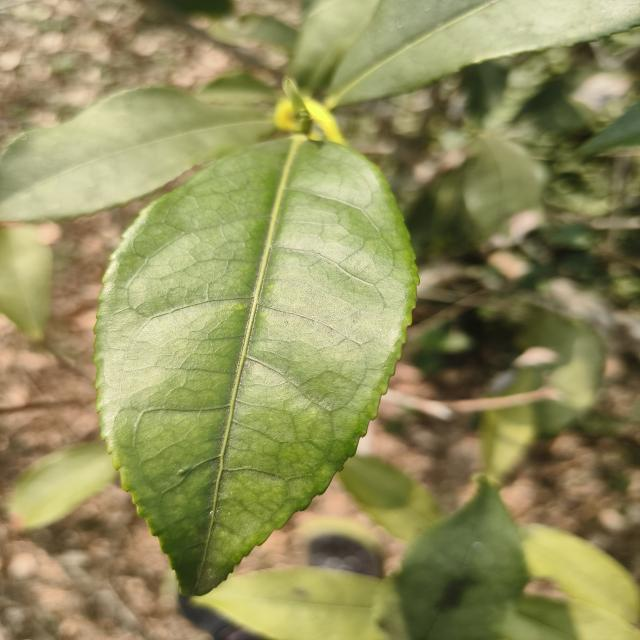Leaf: (96, 136, 417, 595), (0, 88, 272, 222), (328, 0, 640, 107), (395, 480, 528, 640), (192, 566, 386, 640), (9, 442, 119, 529), (461, 134, 543, 244), (337, 455, 441, 541), (0, 225, 52, 340)
